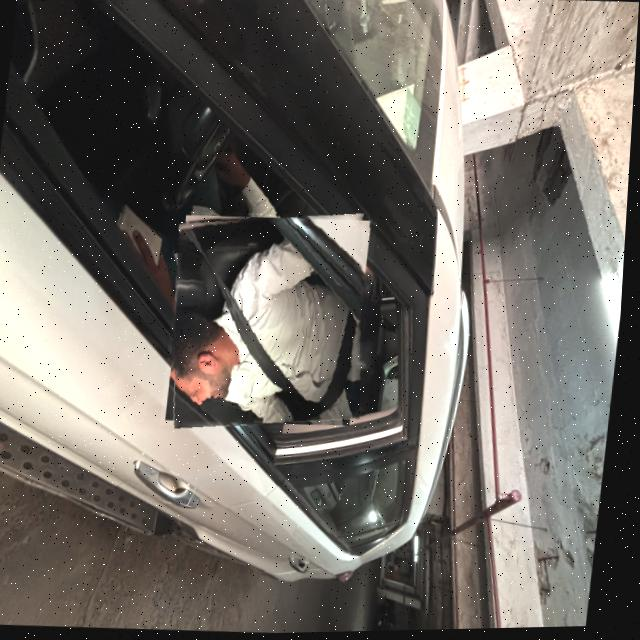seatbelt: (164, 209, 380, 436)
